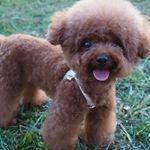puppy: (49, 1, 147, 149)
